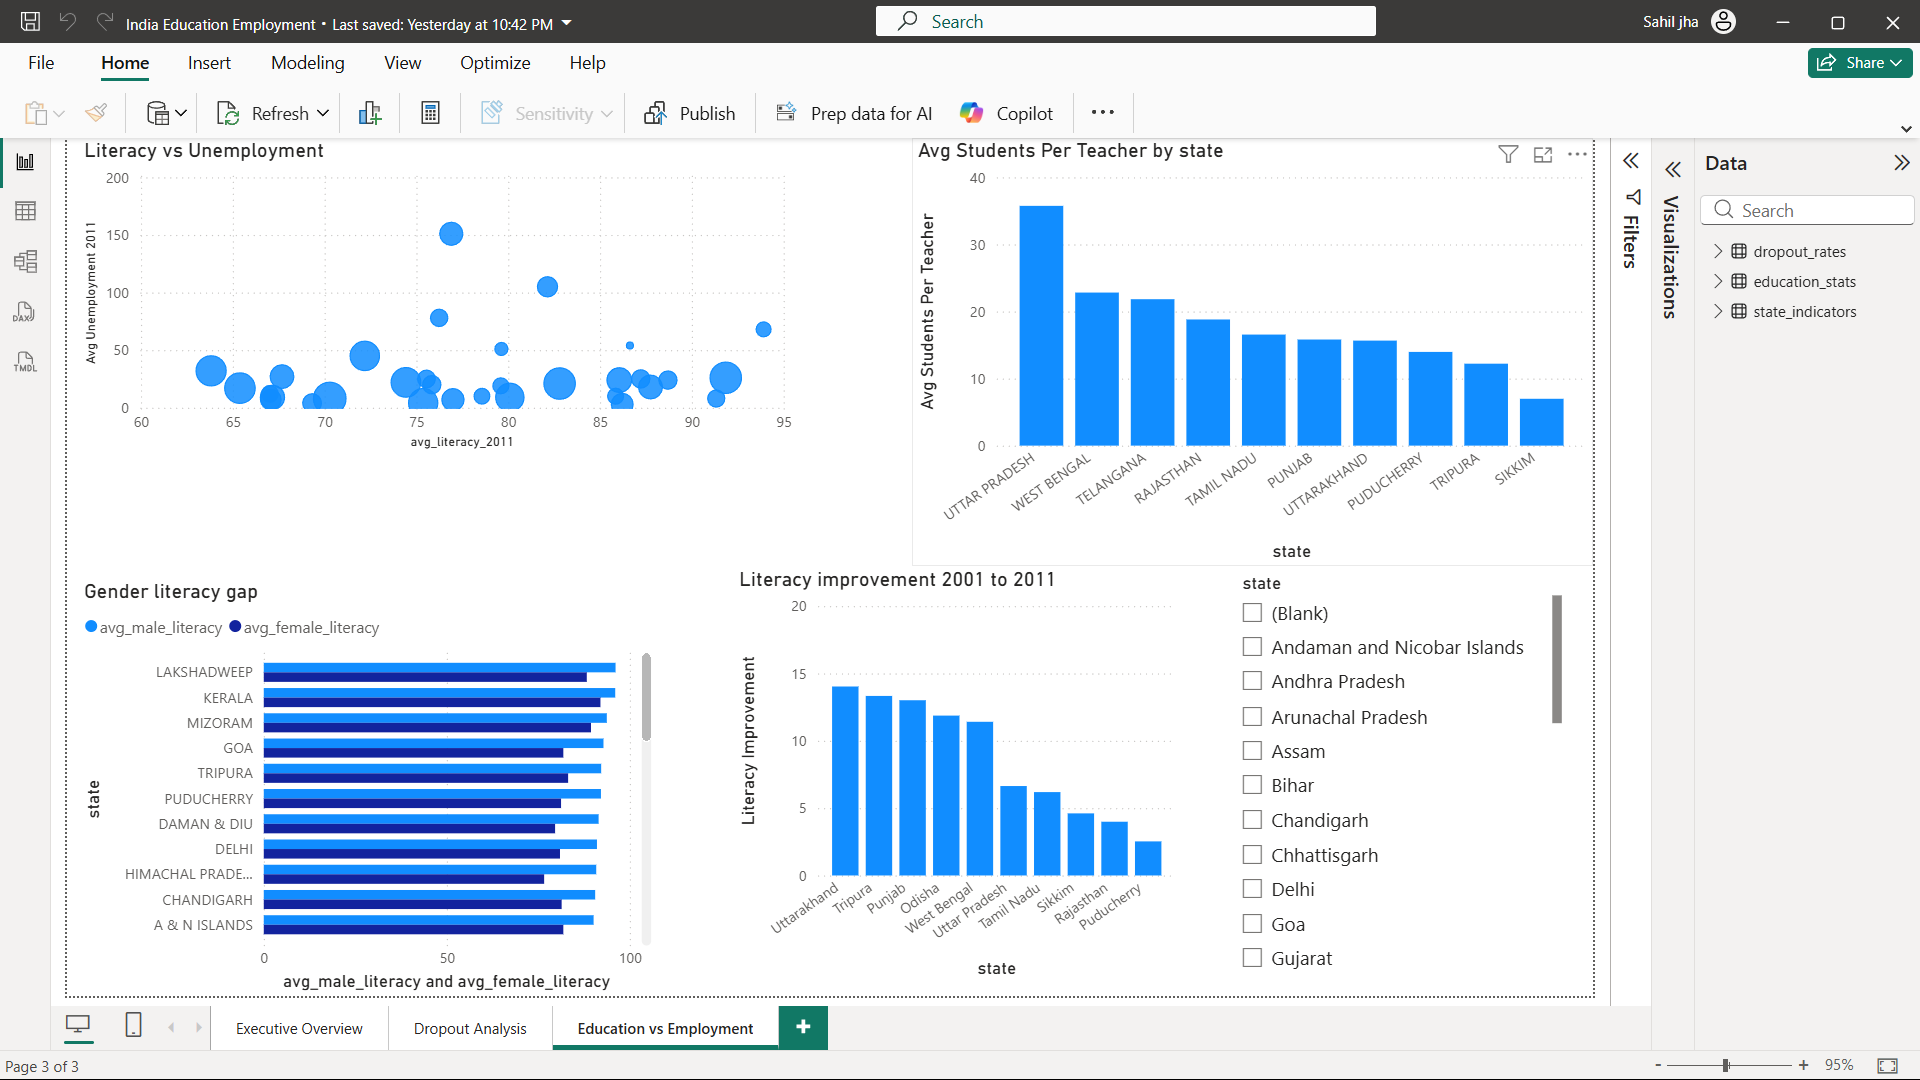

This screenshot's page, from the dashboard's own definition file:
{"tool":"powerbi","page":{"name":"Education vs Employment","canvas":[1280,720],"ordinal":2},"visuals":[{"type":"scatterChart","title":" Literacy vs Unemployment","fields":{"Y":["state_indicators.Avg Unemployment 2011"],"Category":["state_indicators.state"],"Size":["Sum(state_indicators.poverty_2011)"],"X":["state_indicators.avg_literacy_2011"]},"box":[9.6,0,603.8,266.2],"z":0},{"type":"clusteredBarChart","title":"Gender literacy gap","fields":{"Category":["education_stats.state"],"Y":["education_stats.avg_male_literacy","education_stats.avg_female_literacy"]},"box":[9.6,370.5,485.8,349.9],"z":1000},{"type":"columnChart","fields":{"Category":["education_stats.state"],"Y":["education_stats.Avg Students Per Teacher"]},"box":[709,0,571,360],"z":2000},{"type":"columnChart","title":" Literacy improvement 2001 to 2011","fields":{"Category":["state_indicators.state"],"Y":["state_indicators.Literacy Improvement"]},"box":[558.5,359.5,376,349.9],"z":3000},{"type":"slicer","fields":{"Values":["state_indicators.state"]},"box":[972.9,359.5,285.4,349.9],"z":4000}]}

Visuals, with their boxes on the page's 1280x720 design canvas (x1, y1, x2, y2). These are canvas units, not pixel positions in the 1920x1080 screenshot, which may show the page scaled, cropped or inside an application window:
" Literacy vs Unemployment" scatterChart: BBox(10, 0, 613, 266)
"Gender literacy gap" clusteredBarChart: BBox(10, 370, 495, 720)
columnChart - education_stats.state x education_stats.Avg Students Per Teacher: BBox(709, 0, 1280, 360)
" Literacy improvement 2001 to 2011" columnChart: BBox(558, 360, 934, 709)
slicer - state_indicators.state: BBox(973, 360, 1258, 709)
